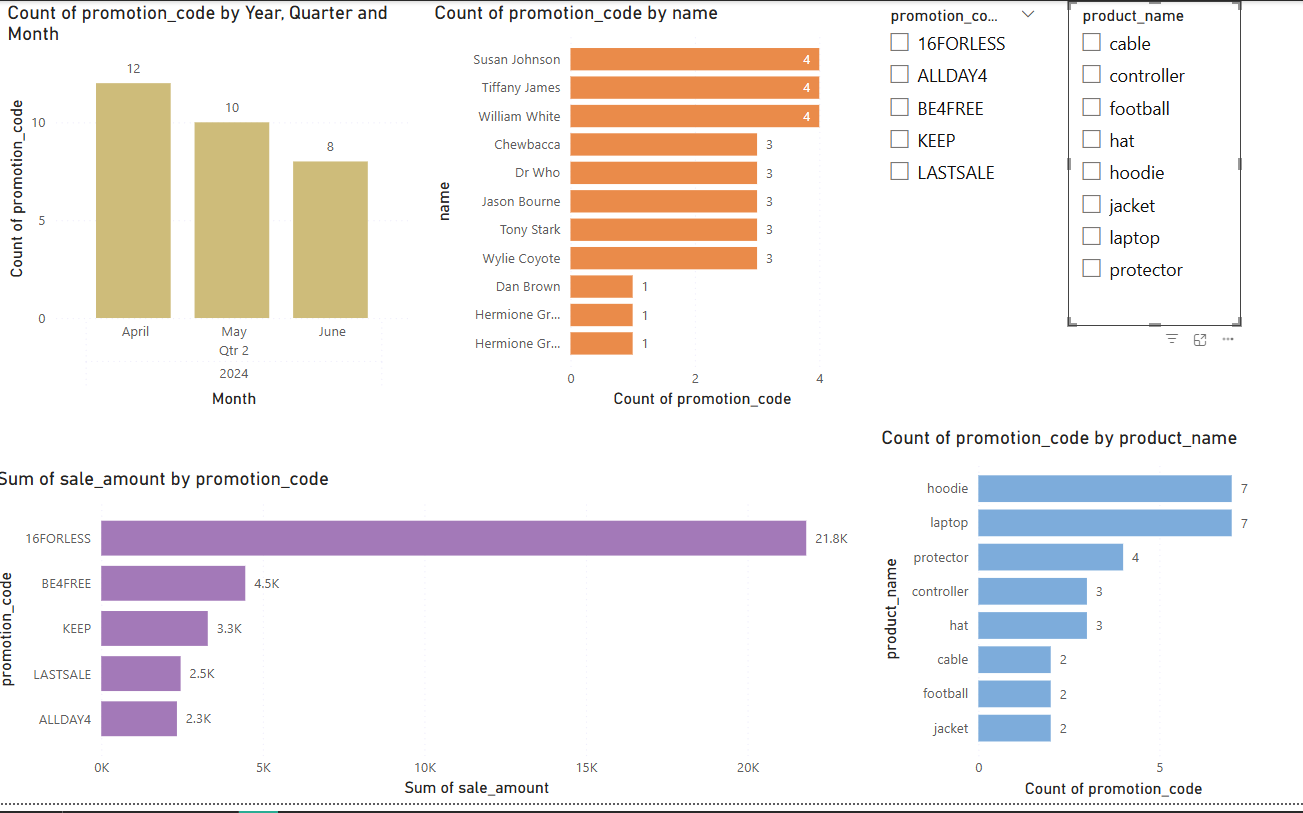

The page's visual inventory and layout, read from the dashboard file:
{"tool":"powerbi","page":{"name":"P6 and Promotion Codes","canvas":[1280,720],"ordinal":0},"visuals":[{"type":"columnChart","fields":{"Category":["sale.Year_dt.Variation.Date Hierarchy.Year","sale.Quarter_dt.Variation.Date Hierarchy.Quarter","sale.month_name_dt.Variation.Date Hierarchy.Month","sale.month_name_dt.Variation.Date Hierarchy.Day"],"Y":["CountNonNull(sale.promotion_code)"]},"box":[9.7,0,372.5,369.6],"z":0},{"type":"clusteredBarChart","fields":{"Category":["sale.promotion_code"],"Y":["Sum(sale.sale_amount)"]},"box":[0,418.4,788.3,301.1],"z":1000},{"type":"clusteredBarChart","fields":{"Category":["customer.name"],"Y":["CountNonNull(sale.promotion_code)"]},"box":[393,0,373,370],"z":2000},{"type":"clusteredBarChart","fields":{"Category":["product.product_name"],"Y":["CountNonNull(sale.promotion_code)"]},"box":[794.7,381.3,344.3,338.5],"z":3000},{"type":"slicer","fields":{"Values":["sale.promotion_code"]},"box":[794.7,0,155.6,176],"z":4000},{"type":"slicer","fields":{"Values":["product.product_name"]},"box":[966.5,0,155.6,292.1],"z":5000}]}

Visuals, with their boxes on the page's 1280x720 design canvas (x1, y1, x2, y2). These are canvas units, not pixel positions in the 1303x813 screenshot, which may show the page scaled, cropped or inside an application window:
columnChart - sale.Year_dt.Variation.Date Hierarchy.Year x sale.Quarter_dt.Variation.Date Hierarchy.Quarter: (x1=10, y1=0, x2=382, y2=370)
clusteredBarChart - sale.promotion_code x Sum(sale.sale_amount): (x1=0, y1=418, x2=788, y2=720)
clusteredBarChart - customer.name x CountNonNull(sale.promotion_code): (x1=393, y1=0, x2=766, y2=370)
clusteredBarChart - product.product_name x CountNonNull(sale.promotion_code): (x1=795, y1=381, x2=1139, y2=720)
slicer - sale.promotion_code: (x1=795, y1=0, x2=950, y2=176)
slicer - product.product_name: (x1=966, y1=0, x2=1122, y2=292)
